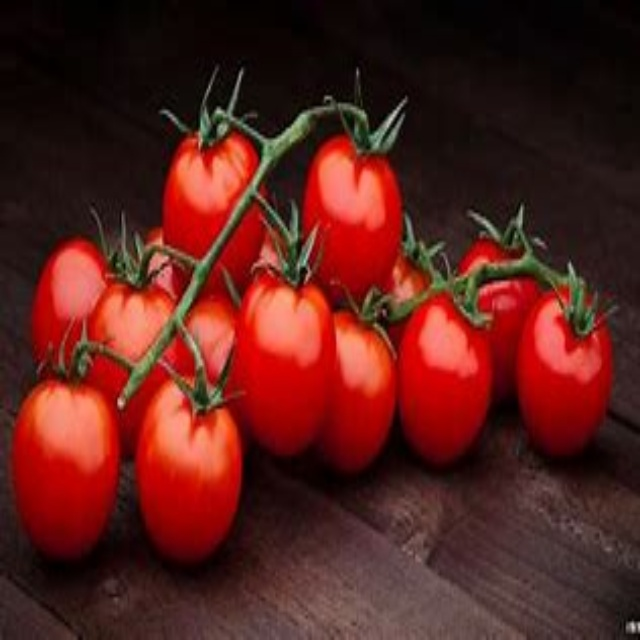tomato: (231, 279, 340, 457), (81, 273, 192, 445), (155, 136, 278, 286), (135, 396, 241, 565), (314, 314, 411, 483), (390, 310, 492, 467), (517, 288, 613, 451), (16, 384, 110, 550), (309, 145, 405, 293), (462, 244, 545, 393)
